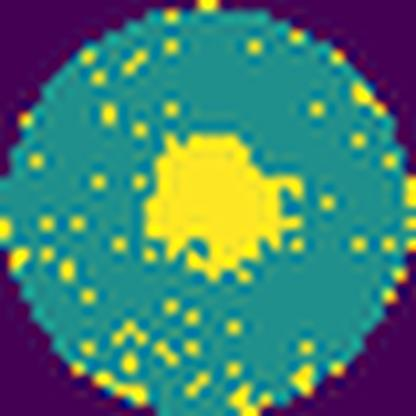Center: (141, 132, 304, 282)
